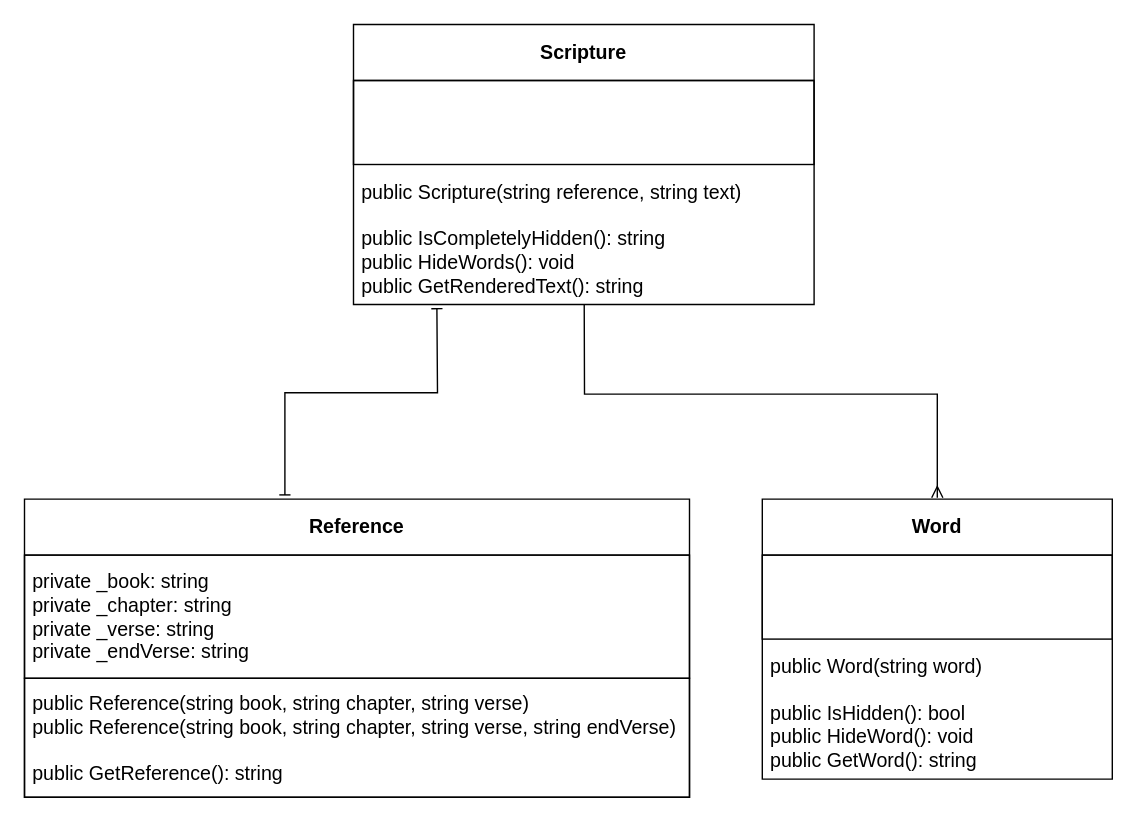
Some shapes in this 1137 by 822 pixel diagram are drawn without their labels. The centre of each missing label's shape, as x and y in pixels:
"private _reference: string private _texts: List<Word>" belongs at [583,121].
"private _word: string private _isHiden: bool" belongs at [936,596].
